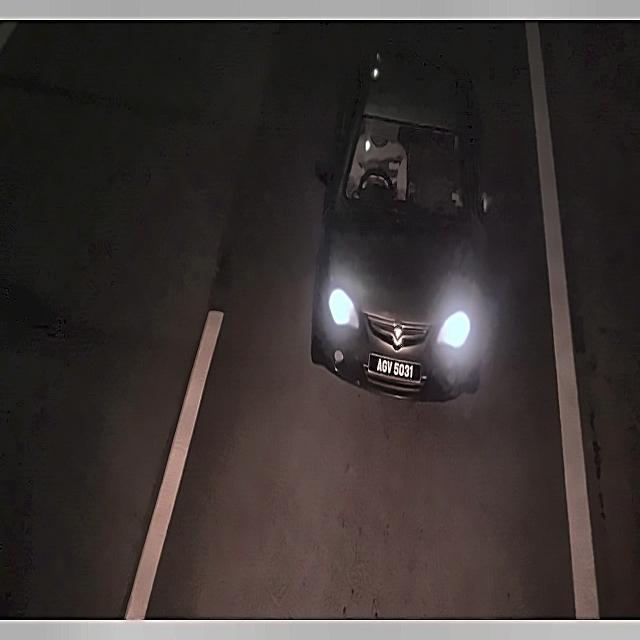car: (366, 347, 424, 390)
